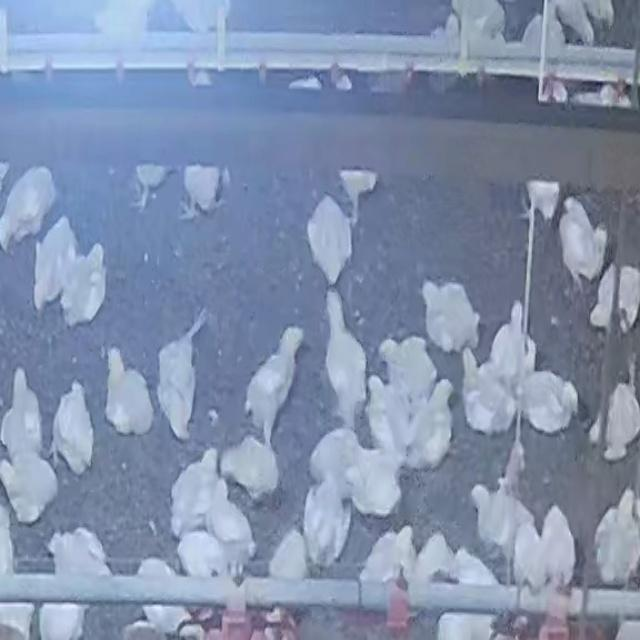chicken: (243, 324, 304, 450), (156, 312, 208, 442), (321, 295, 368, 434), (512, 501, 578, 593), (471, 476, 536, 560), (418, 274, 486, 353), (169, 447, 225, 542), (402, 376, 456, 471), (303, 191, 353, 289), (104, 345, 155, 440), (0, 166, 56, 251), (301, 476, 352, 566), (347, 436, 404, 516), (1, 448, 60, 525), (592, 491, 639, 587), (202, 475, 258, 555), (50, 379, 95, 478), (60, 236, 108, 327), (219, 433, 281, 502), (33, 217, 76, 316), (593, 373, 640, 463), (1, 366, 44, 464), (459, 356, 511, 437), (558, 196, 604, 287), (518, 368, 578, 434), (493, 300, 538, 386), (381, 336, 438, 400), (590, 264, 640, 335), (364, 381, 410, 458), (307, 428, 362, 490), (48, 526, 112, 577), (360, 528, 408, 585)
